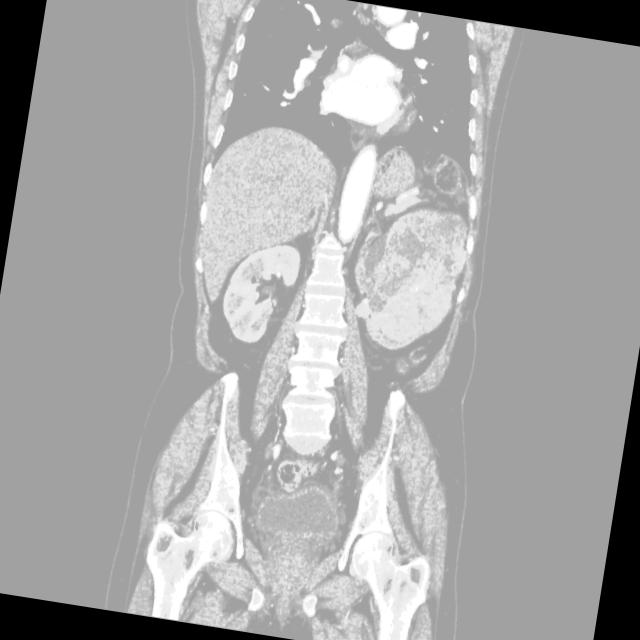TUMOR: (131, 111, 522, 403)
